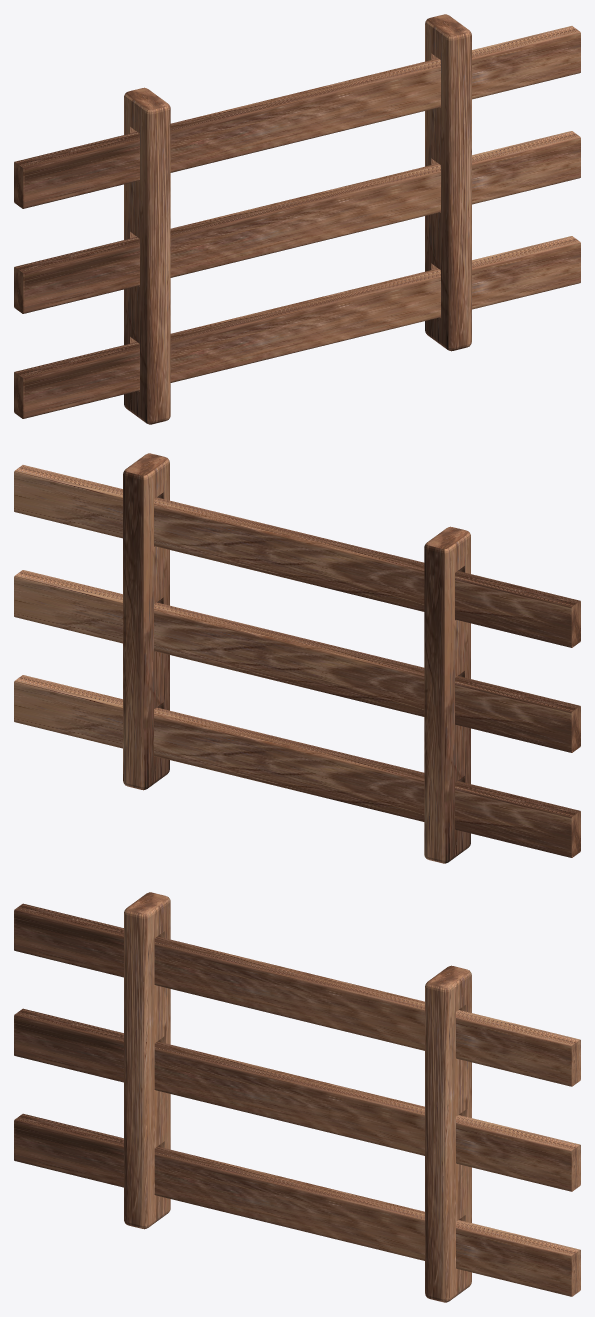
Rendered from fence.obj.
3 views of the same model, one above another, from view 1: azimuth 30°, elevation 25°; view 2: azimuth 150°, elevation 25°; view 3: azimuth 330°, elevation 25° (orthographic).
Parts seen in each view (by area): view 1: Cube.003_Cube.005, Cube.001_Cube.003, Cube.002_Cube.004, Cube, Cube.004_Cube.006; view 2: Cube.003_Cube.005, Cube.001_Cube.003, Cube.002_Cube.004, Cube, Cube.004_Cube.006; view 3: Cube.002_Cube.004, Cube.001_Cube.003, Cube.003_Cube.005, Cube.004_Cube.006, Cube.
Part boxes in pixels (bbox=[...]): Cube.003_Cube.005: bbox=[14, 26, 580, 208]; Cube.001_Cube.003: bbox=[14, 131, 580, 313]; Cube.002_Cube.004: bbox=[14, 236, 580, 418]; Cube: bbox=[425, 14, 471, 351]; Cube.004_Cube.006: bbox=[124, 87, 170, 424]; Cube.003_Cube.005: bbox=[14, 465, 580, 647]; Cube.001_Cube.003: bbox=[14, 570, 580, 752]; Cube.002_Cube.004: bbox=[14, 675, 580, 857]; Cube: bbox=[123, 453, 169, 790]; Cube.004_Cube.006: bbox=[424, 526, 470, 863]; Cube.002_Cube.004: bbox=[14, 1113, 580, 1296]; Cube.001_Cube.003: bbox=[14, 1008, 580, 1191]; Cube.003_Cube.005: bbox=[14, 903, 580, 1086]; Cube.004_Cube.006: bbox=[124, 892, 170, 1229]; Cube: bbox=[425, 965, 471, 1302].
Size of the model in its own units: 8.33 by 4.53 by 0.6803.
Materials: 1 (1 with a texture image).
